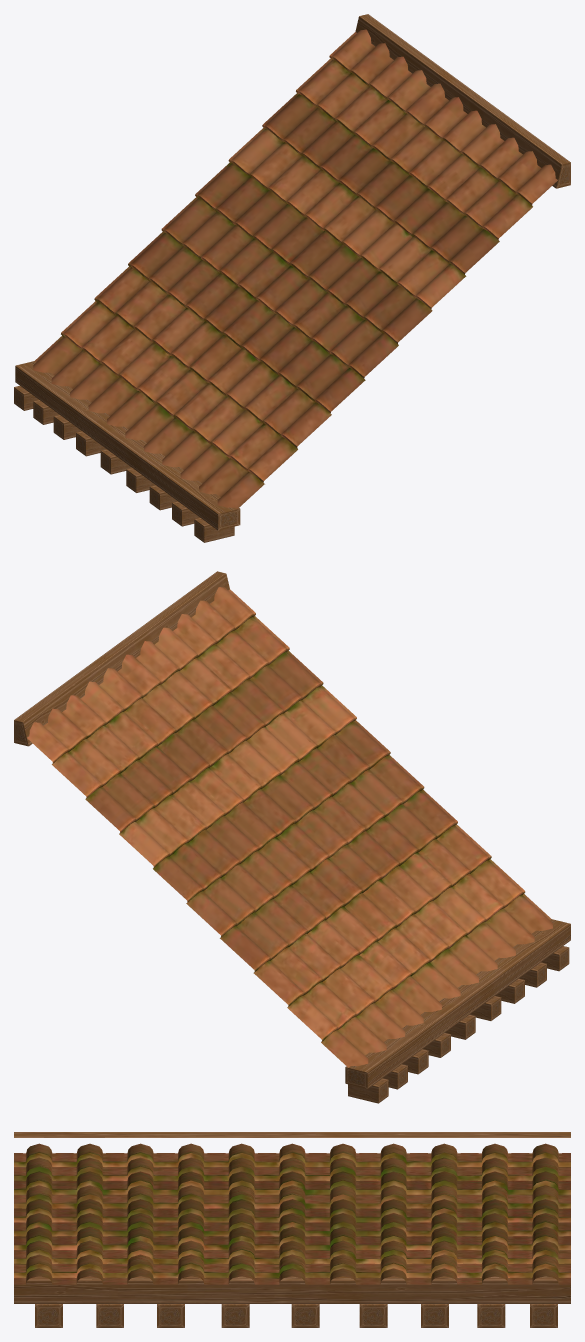
Rendered from SM_Roof_02_rred.glb.
3 renders of one model, top to bottom at view 1: azimuth 30°, elevation 25°; view 2: azimuth 150°, elevation 25°; view 3: azimuth 270°, elevation 25°, orthographic. The views are drawn at different scales.
Parts seen in each view (by area): view 1: SM_Roof_02; view 2: SM_Roof_02; view 3: SM_Roof_02.
Part boxes in pixels (x1,y1,x2,y2): SM_Roof_02: (14, 14, 570, 542); SM_Roof_02: (14, 571, 570, 1103); SM_Roof_02: (14, 1132, 570, 1327).
Bounding box in the file's own units: 4.09 × 3.25 × 4.
Materials: 2 (2 with a texture image).
